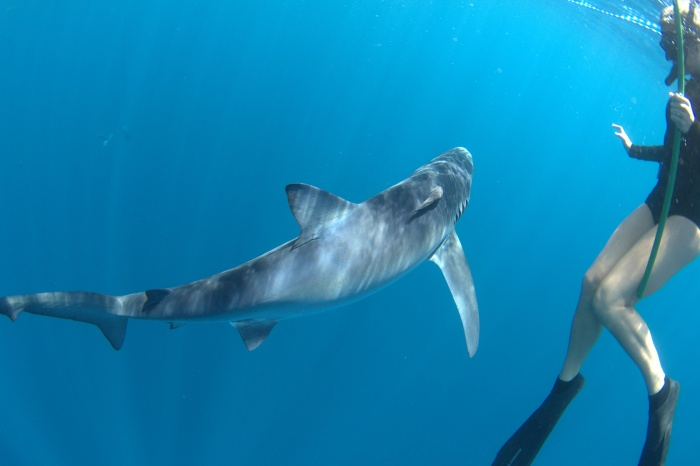Azul: (1, 114, 532, 383)
